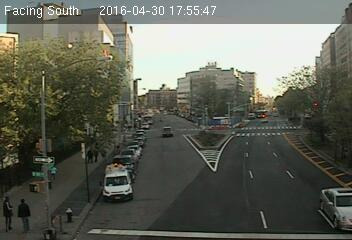neg: (296, 117, 313, 139), (325, 27, 341, 47), (61, 205, 76, 226), (294, 63, 309, 83), (65, 36, 80, 56), (331, 143, 345, 162), (130, 116, 144, 134), (208, 142, 221, 160), (187, 110, 200, 127), (178, 28, 190, 45), (209, 112, 221, 128), (160, 124, 171, 139), (250, 108, 258, 119)
pos: (12, 198, 38, 233), (89, 145, 104, 165)
